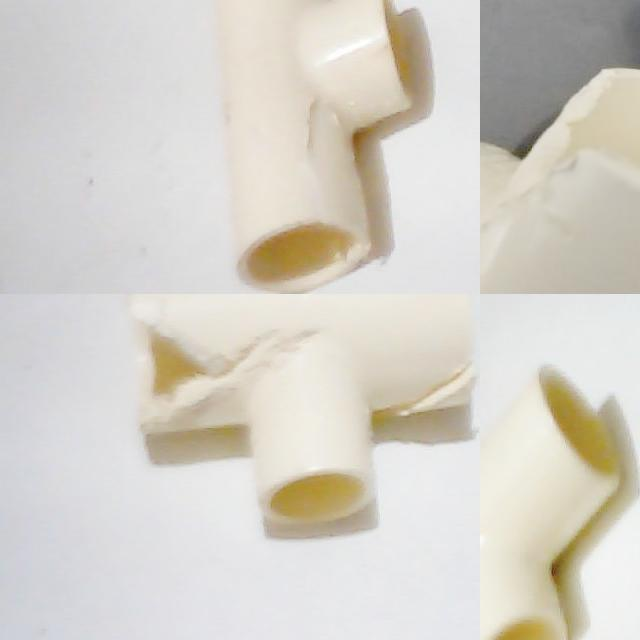Defective: (126, 294, 302, 443), (532, 94, 630, 194), (382, 356, 480, 434), (297, 95, 351, 228)
T Joint: (125, 294, 478, 524), (214, 0, 411, 294), (480, 365, 622, 640)
